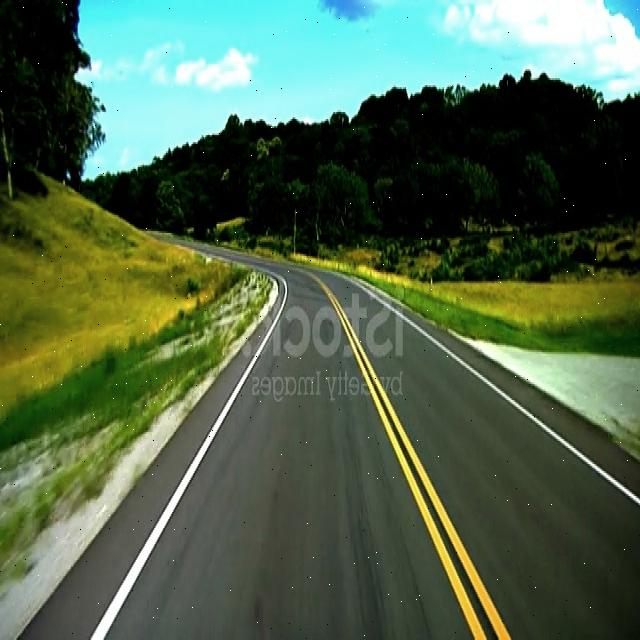lane: (313, 276, 511, 638), (314, 276, 510, 639), (92, 277, 288, 639), (404, 319, 639, 506)
road: (24, 254, 640, 636)
